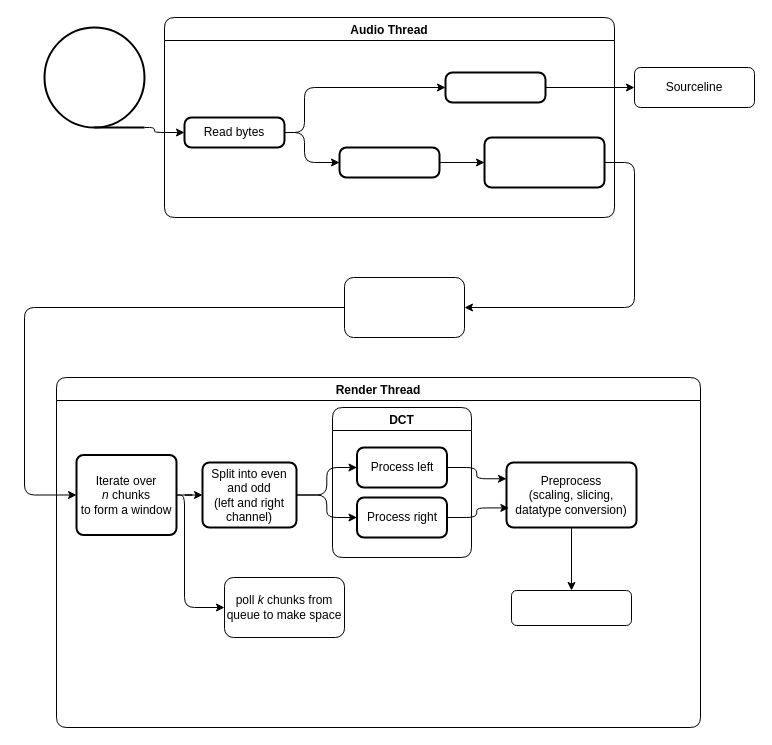
This 772x745 diagram has some shape labels left out. Here are the shapes that lost their labels. From the top down, the centre of each, then its label:
At [94,77]: "PCM-stereo audio file".
At [495,87]: "Write bytes".
At [389,162]: "Split into chunks".
At [544,162]: "for each: queue.offer(chunk)".
At [404,307]: "ArrayBlockingQueue".
At [571,608]: "Write to a texture".
